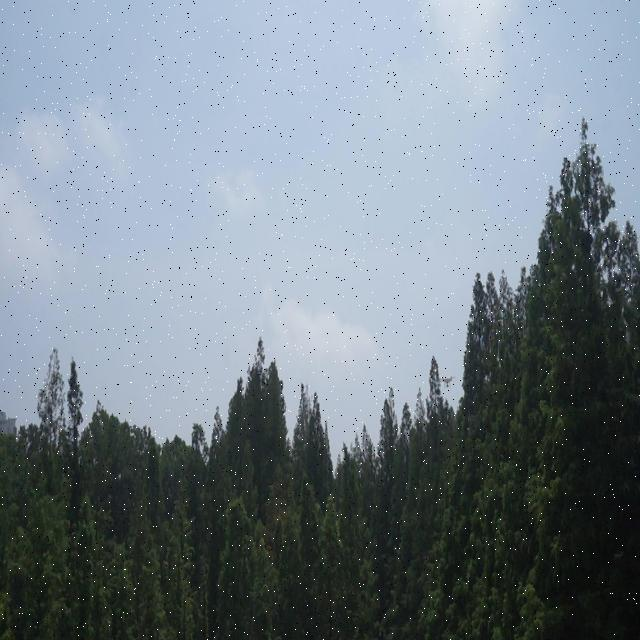UAV: (438, 376, 456, 388)
